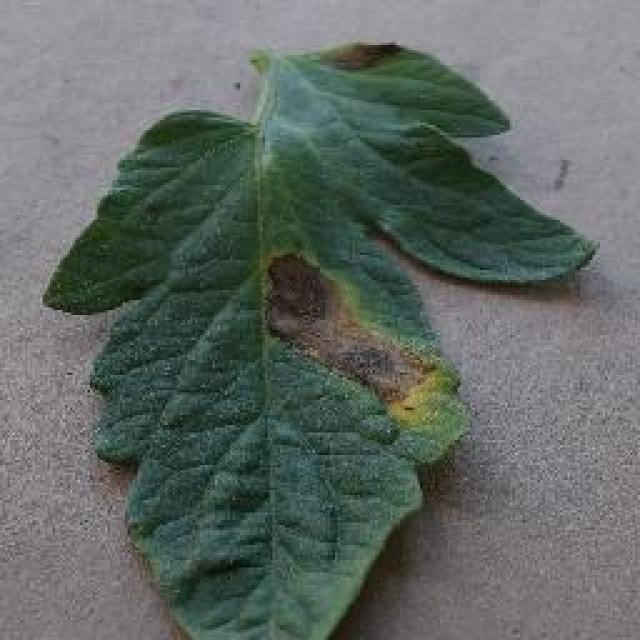Tomato___Early_blight: (36, 45, 599, 640)
